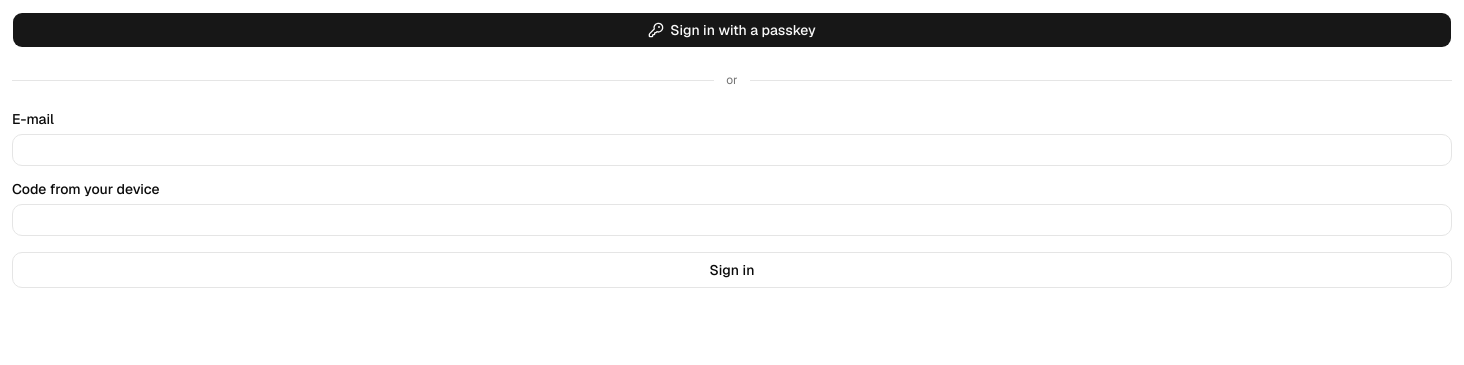
SignInForm › tells an unreachable backend apart from a refusal
Type "ada@example.com" into the field labelled "E-mail" at (732, 150), box [12,134,1452,166]
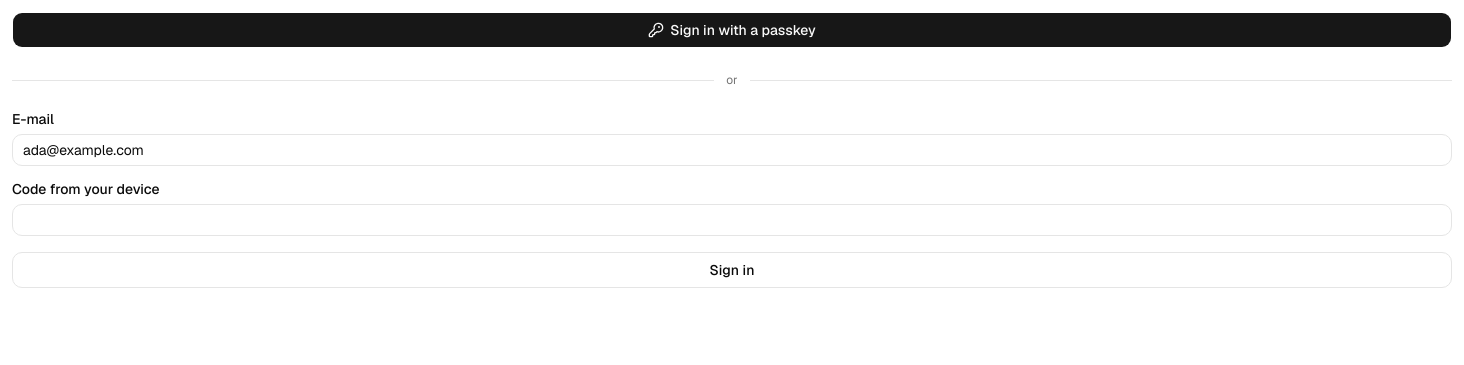
Type "123456" into the field labelled "Code from your device" at (732, 220), box [12,204,1452,236]
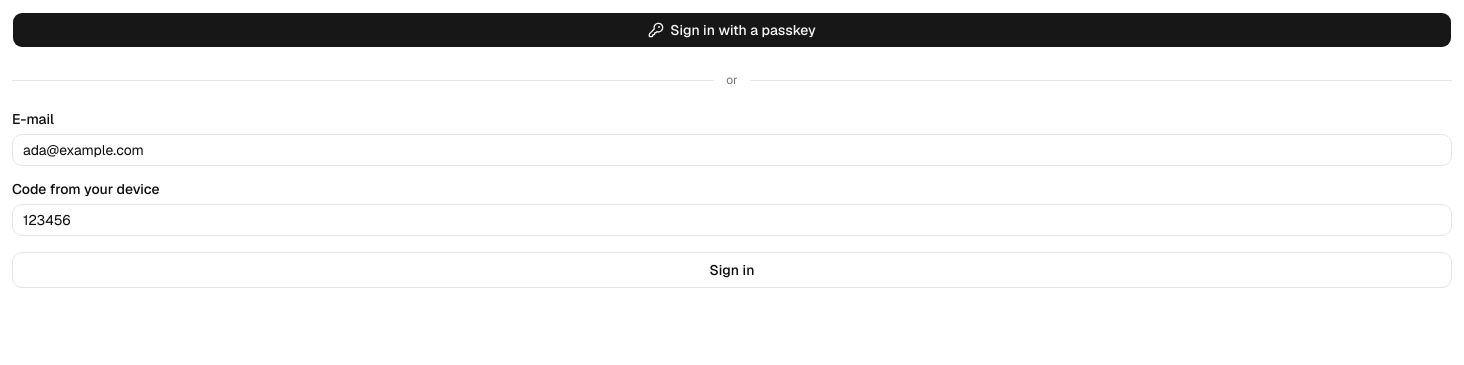
Click the button "Sign in" at (732, 270), box [12,252,1452,288]
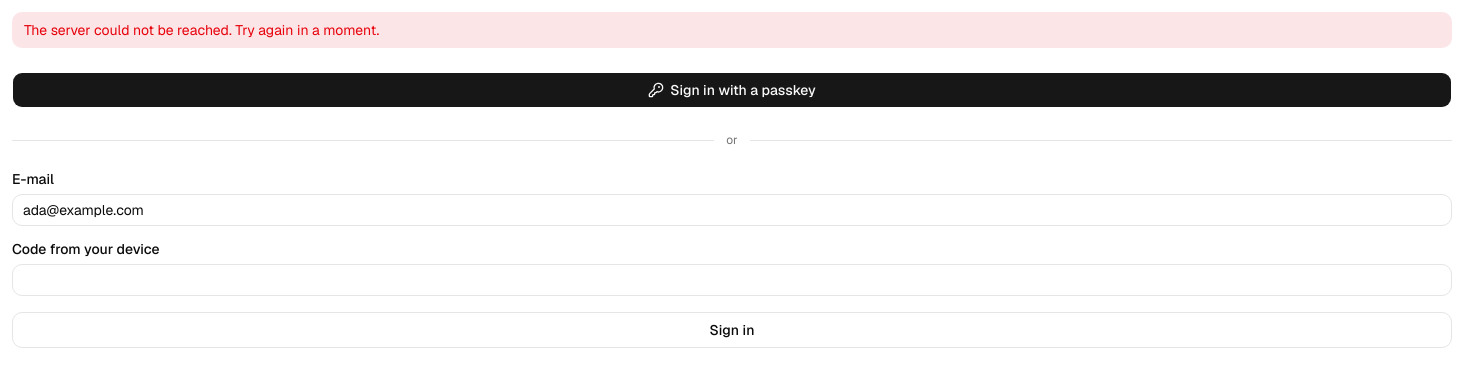
Expected: the message reads "The server could not be reached. Try again in a moment.", [24,21,379,39]
